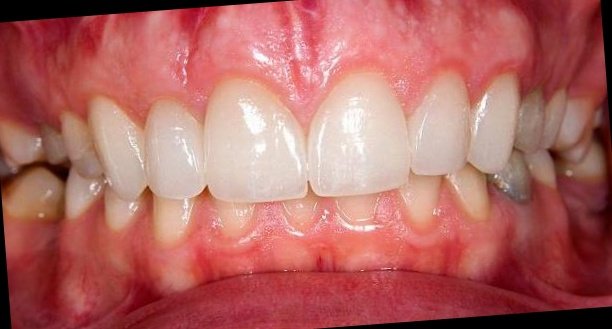Gingivitis: (168, 9, 220, 69), (125, 257, 164, 300)
